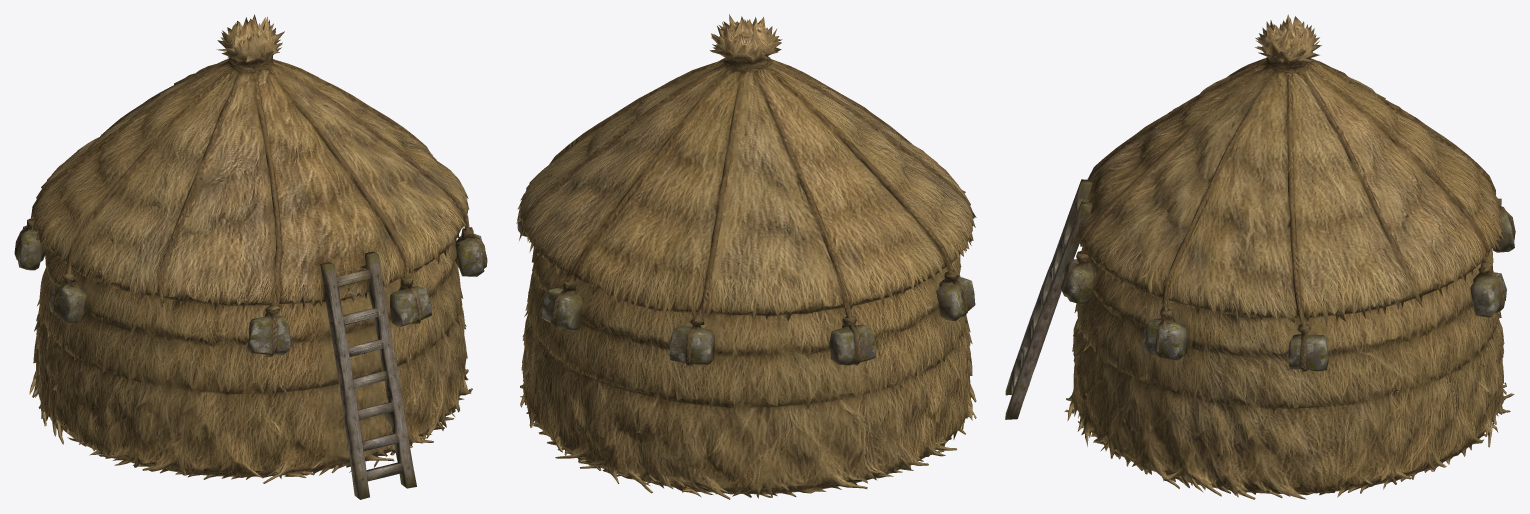
Rendered from hay_rick_tripo.glb.
The picture shows the model from 3 angles, left to right: view 1: azimuth 30°, elevation 25°; view 2: azimuth 150°, elevation 25°; view 3: azimuth 270°, elevation 25°; orthographic projection. The views are drawn at different scales.
Visible parts, largest first — view 1: tripo_node_c7e11def-213a-42aa-95c3-1fc5cfdda6b3; view 2: tripo_node_c7e11def-213a-42aa-95c3-1fc5cfdda6b3; view 3: tripo_node_c7e11def-213a-42aa-95c3-1fc5cfdda6b3.
Boxes of the visible parts, bbox=[...] form: tripo_node_c7e11def-213a-42aa-95c3-1fc5cfdda6b3: bbox=[14, 14, 487, 499]; tripo_node_c7e11def-213a-42aa-95c3-1fc5cfdda6b3: bbox=[516, 14, 976, 499]; tripo_node_c7e11def-213a-42aa-95c3-1fc5cfdda6b3: bbox=[1005, 14, 1515, 499].
Bounding box in the file's own units: 0.9559 × 0.8356 × 1.
Materials: 1 (1 with a texture image).
